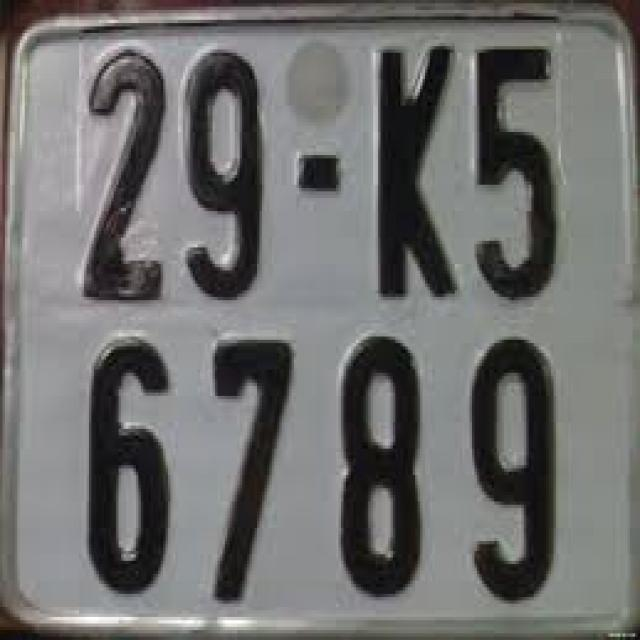2: (74, 40, 171, 306)
5: (467, 36, 563, 304)
6: (76, 327, 180, 597)
7: (202, 327, 296, 607)
8: (331, 324, 430, 600)
9: (462, 327, 563, 607), (175, 43, 272, 303)
K: (368, 33, 460, 303)
